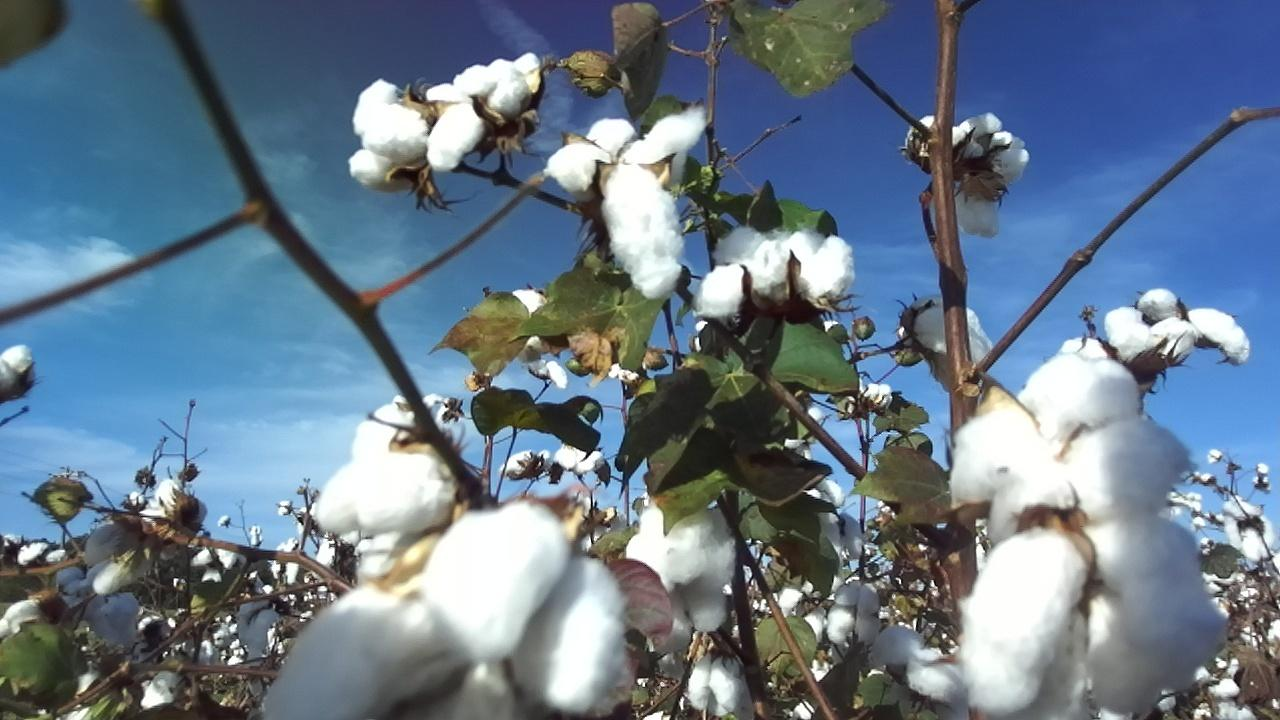cotton_ready: (259, 504, 630, 720), (964, 519, 1225, 720), (949, 339, 1192, 549), (545, 109, 705, 298), (313, 390, 454, 593), (626, 504, 742, 650), (693, 230, 854, 321), (912, 112, 1030, 235), (430, 52, 541, 170), (1106, 289, 1249, 362), (352, 78, 423, 184), (59, 562, 140, 647), (875, 624, 962, 700), (912, 304, 992, 381), (806, 481, 869, 557), (686, 655, 754, 720), (512, 289, 559, 362), (830, 584, 885, 646), (140, 477, 199, 519), (0, 344, 32, 403)
